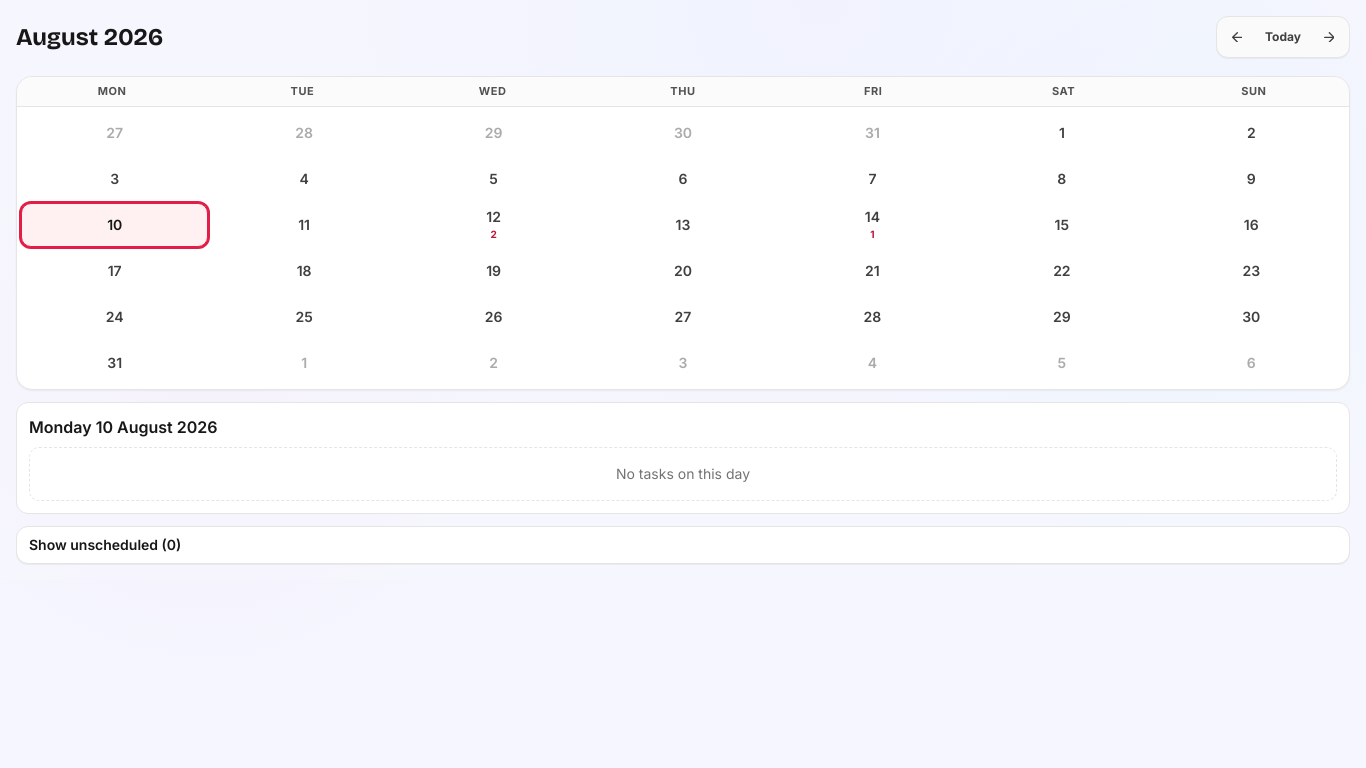
Test: PlannerCalendar — mobile (compact grid + day agenda) › lists exactly that day’s tasks — all of them, in the order given — when a day is selected
This screenshot has width=1366, height=768.
Click the button named "12, 2 tasks".
click(494, 224)  # box [400,202,587,246]
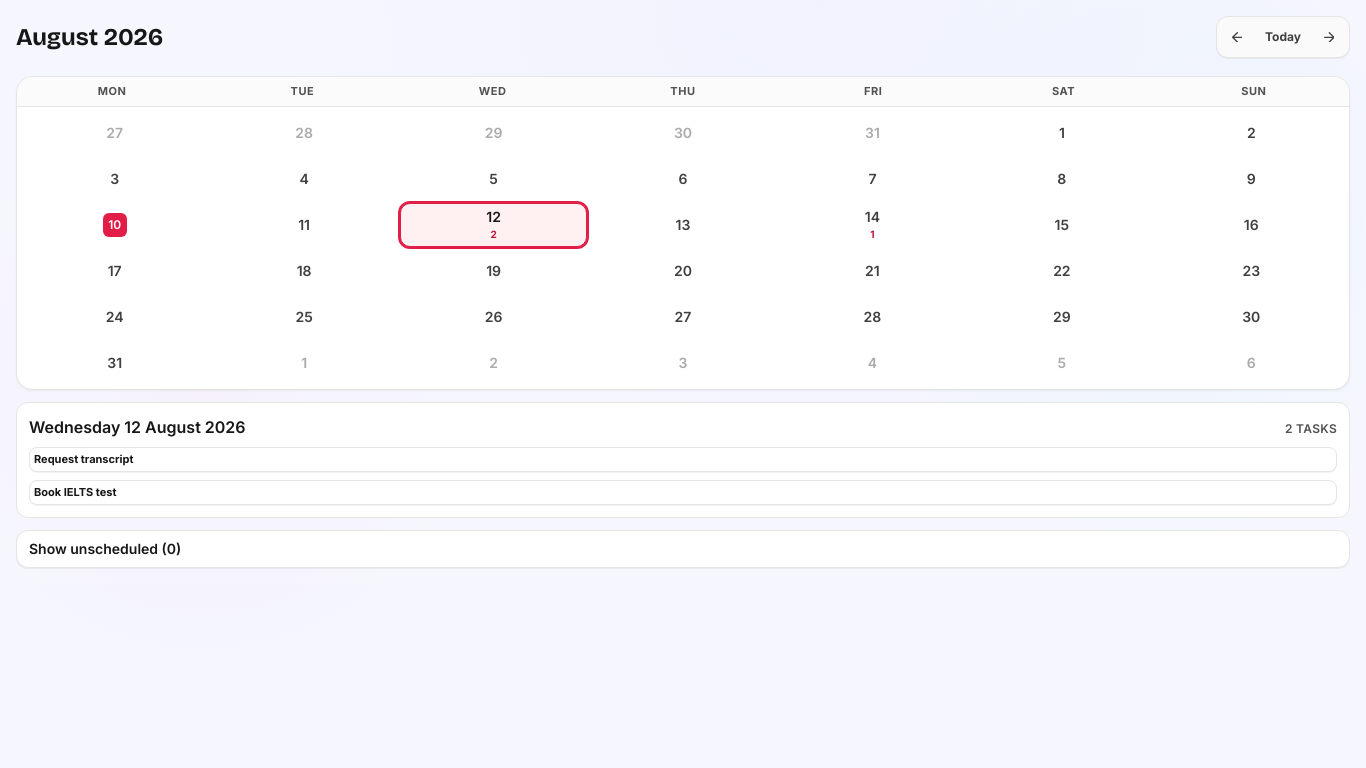
Result: the heading "Wednesday 12 August 2026" is shown at [29,414,246,438]
Result: the element showing "Request transcript" is shown at [29,446,1337,472]
Result: the element showing "Book IELTS test" is shown at [29,480,1337,505]
